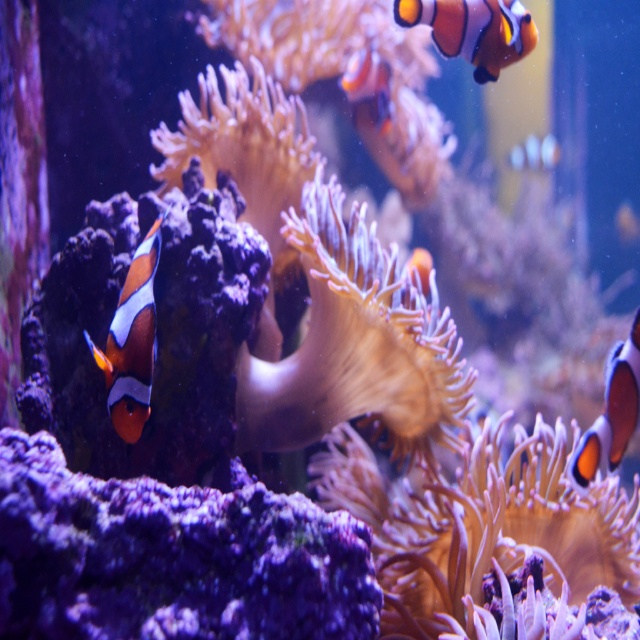Fish: (84, 203, 167, 446), (566, 306, 640, 494), (395, 0, 536, 87)
